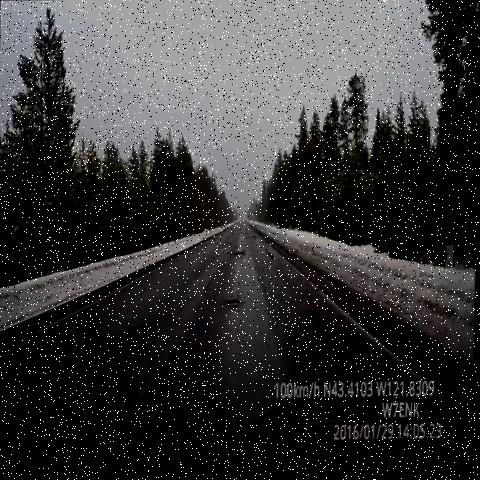pothole: (222, 284, 251, 322), (229, 240, 253, 267), (299, 304, 322, 330), (263, 248, 281, 271), (244, 230, 263, 249)
